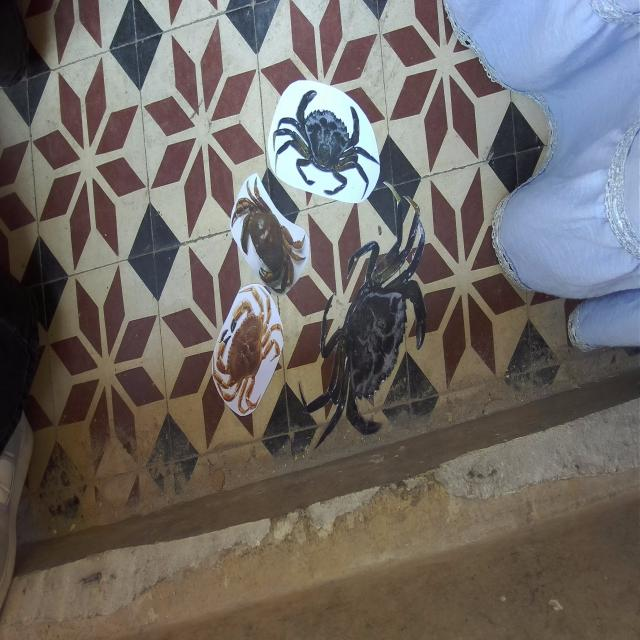European_Green_Crab: (280, 165, 459, 503), (269, 77, 386, 212)
